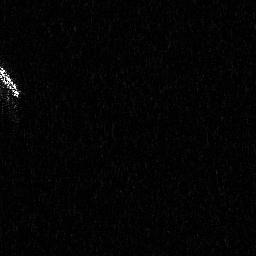ship: (1, 66, 21, 110)
